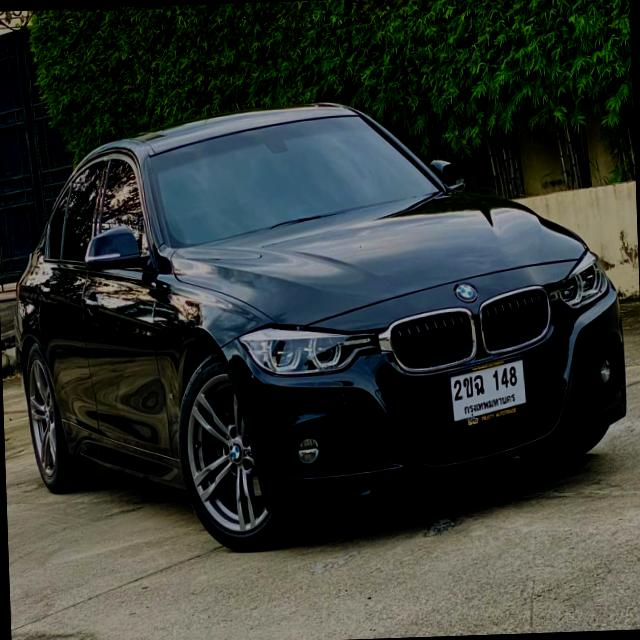license_plate: (443, 352, 530, 430)
